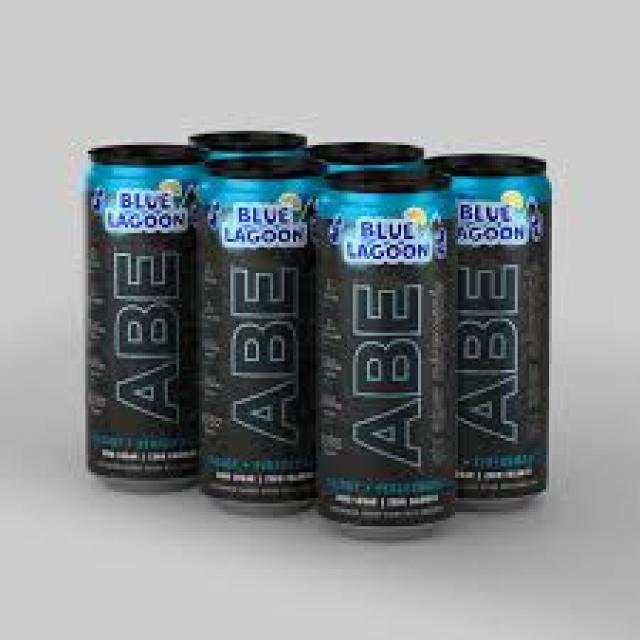Cans: (316, 160, 472, 544), (188, 154, 333, 520), (77, 137, 216, 492), (455, 145, 563, 512)
